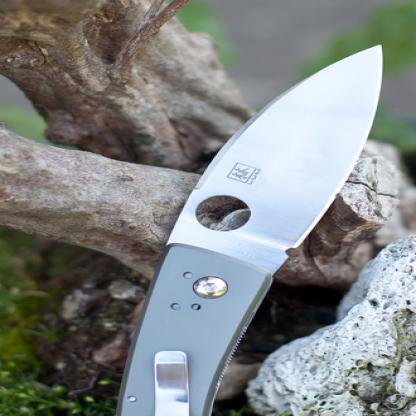knife: (114, 43, 386, 415)
